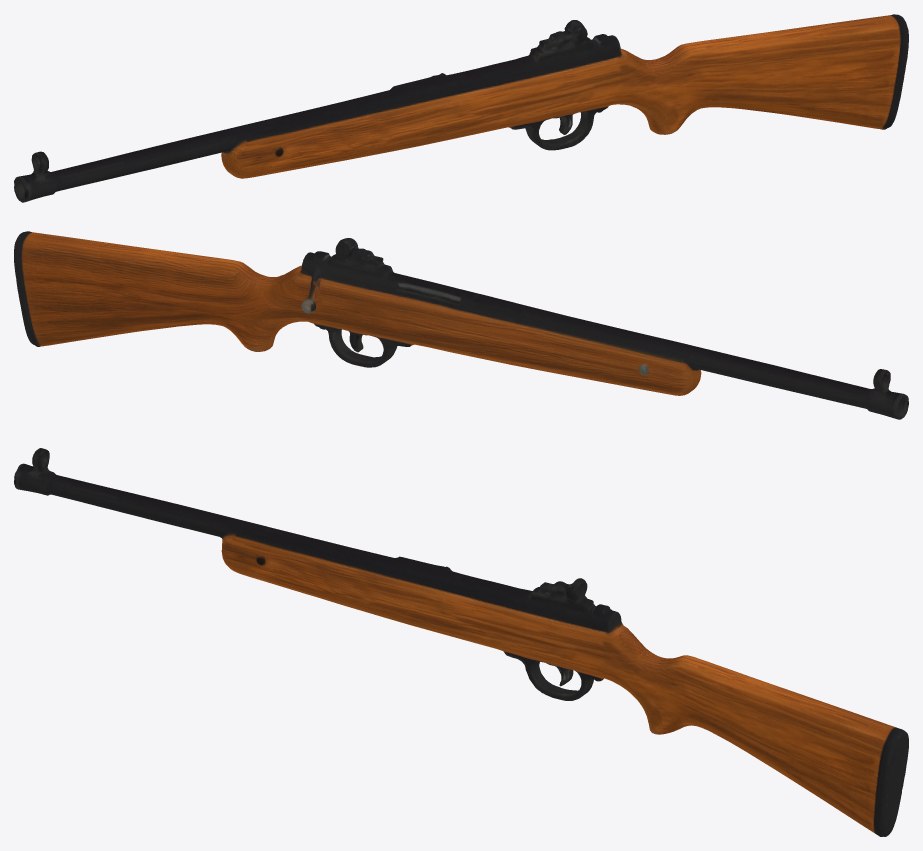
File: launcher.glb
3 renders of one model, top to bottom at view 1: azimuth 30°, elevation 25°; view 2: azimuth 150°, elevation 25°; view 3: azimuth 330°, elevation 25°, orthographic.
Visible parts, largest first — view 1: Mesh1.0; view 2: Mesh1.0; view 3: Mesh1.0.
Part boxes in pixels (<box>): Mesh1.0: <box>14,14,908,202</box>; Mesh1.0: <box>14,231,908,419</box>; Mesh1.0: <box>14,448,908,836</box>.
Bounding box in the file's own units: 1.91 × 0.3749 × 0.1061.
Materials: 1 (1 with a texture image).
